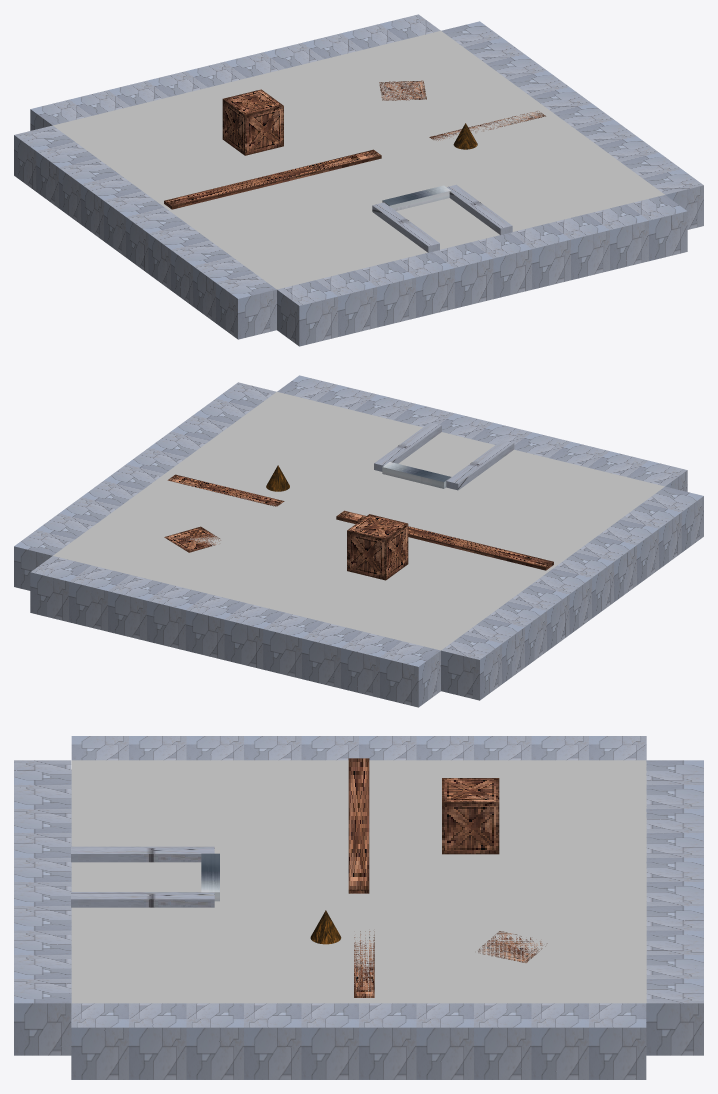
3 renders of one model, top to bottom at view 1: azimuth 30°, elevation 25°; view 2: azimuth 150°, elevation 25°; view 3: azimuth 270°, elevation 25°, orthographic. The views are drawn at different scales.
Parts seen in each view (by area): view 1: Ceiling, Wall.002, Wall.001, Wall.003, Wall.000, Box.003, Box.000, Cube, Cube.001, Cube.003, Box.005, Box.001; view 2: Ceiling, Wall.000, Wall.001, Wall.003, Wall.002, Box.003, Box.000, Cube, Cube.001, Box.001, Cube.003, Box.005; view 3: Ceiling, Wall.003, Wall.000, Wall.002, Wall.001, Box.003, Box.000, Cube, Cube.001, Box.005, Box.001, Cube.003 (+1 smaller).
Boxes of the visible parts, x1,y1,x2,y2 form: Ceiling: [53, 31, 664, 289]; Wall.002: [277, 195, 687, 346]; Wall.001: [14, 125, 276, 339]; Wall.003: [441, 21, 703, 229]; Wall.000: [30, 14, 440, 130]; Box.003: [222, 89, 283, 155]; Box.000: [164, 149, 381, 209]; Cube: [372, 202, 439, 252]; Cube.001: [447, 184, 512, 235]; Cube.003: [382, 185, 450, 210]; Box.005: [379, 80, 426, 100]; Box.001: [429, 111, 545, 140]; Ceiling: [53, 392, 664, 650]; Wall.000: [30, 556, 440, 707]; Wall.001: [441, 486, 703, 700]; Wall.003: [14, 382, 276, 590]; Wall.002: [277, 375, 687, 491]; Box.003: [347, 514, 408, 580]; Box.000: [336, 510, 553, 570]; Cube: [446, 440, 514, 490]; Cube.001: [374, 422, 441, 471]; Box.001: [167, 474, 284, 506]; Cube.003: [382, 462, 451, 488]; Box.005: [164, 526, 220, 552]; Ceiling: [71, 760, 646, 1003]; Wall.003: [71, 1003, 646, 1079]; Wall.000: [646, 760, 703, 1055]; Wall.002: [14, 760, 71, 1055]; Wall.001: [71, 736, 646, 760]; Box.003: [442, 778, 499, 854]; Box.000: [348, 758, 369, 893]; Cube: [71, 846, 214, 862]; Cube.001: [71, 892, 214, 907]; Box.005: [478, 931, 547, 962]; Box.001: [354, 931, 374, 997]; Cube.003: [201, 853, 219, 901].
Size of the model in its own units: 24 by 4.03 by 24.
